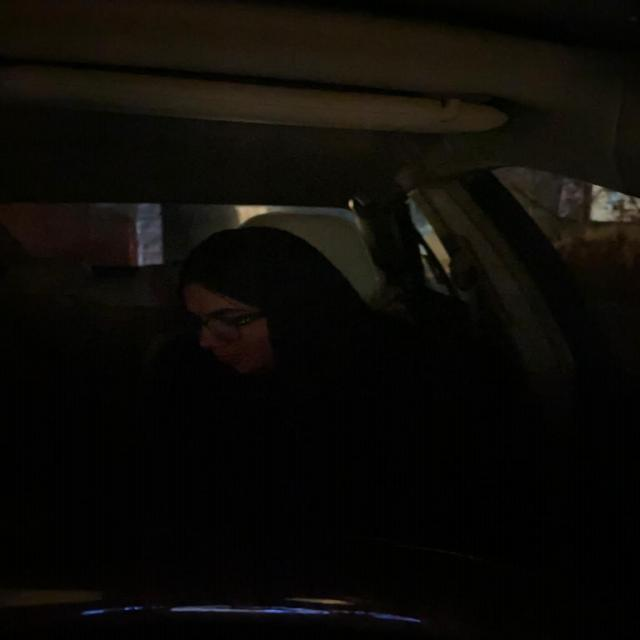LeftRight: (167, 227, 338, 401)
